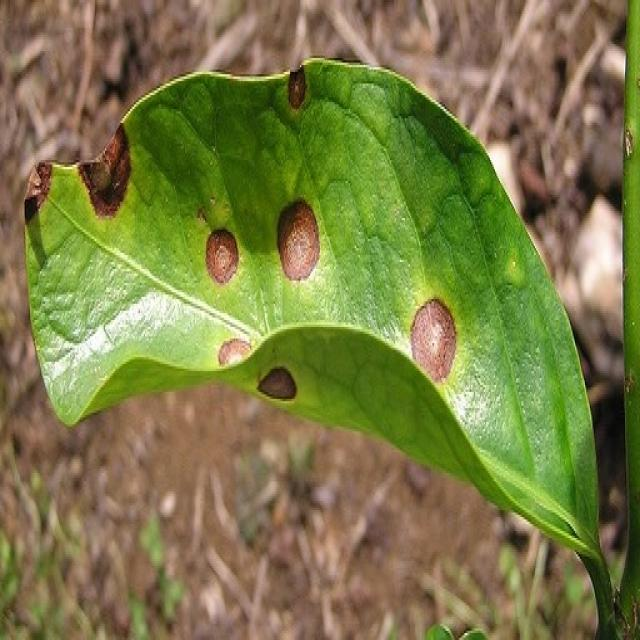Enfermedad-Mancha-de-hierro: (24, 60, 600, 563)
